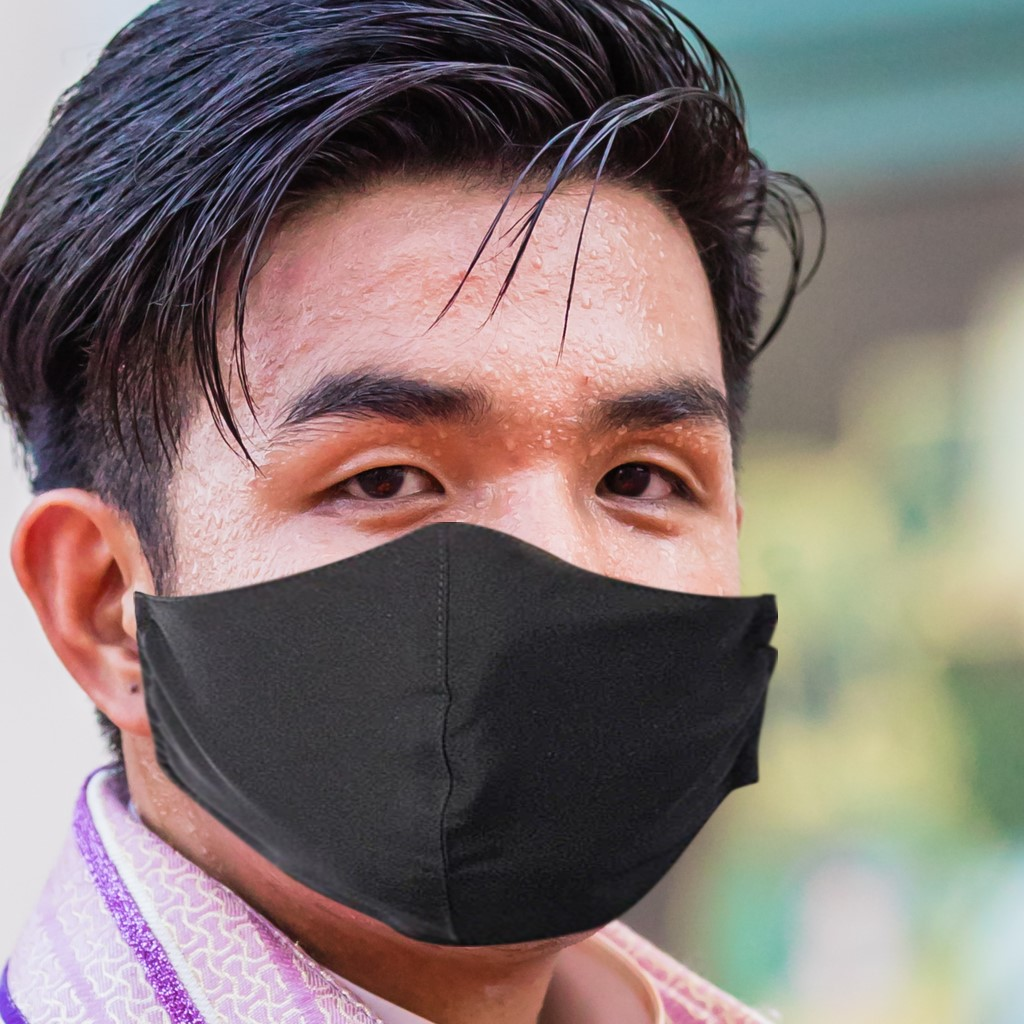con_mascara: (81, 28, 783, 951)
